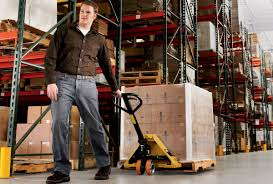Pallet Jack: (111, 92, 217, 177)
